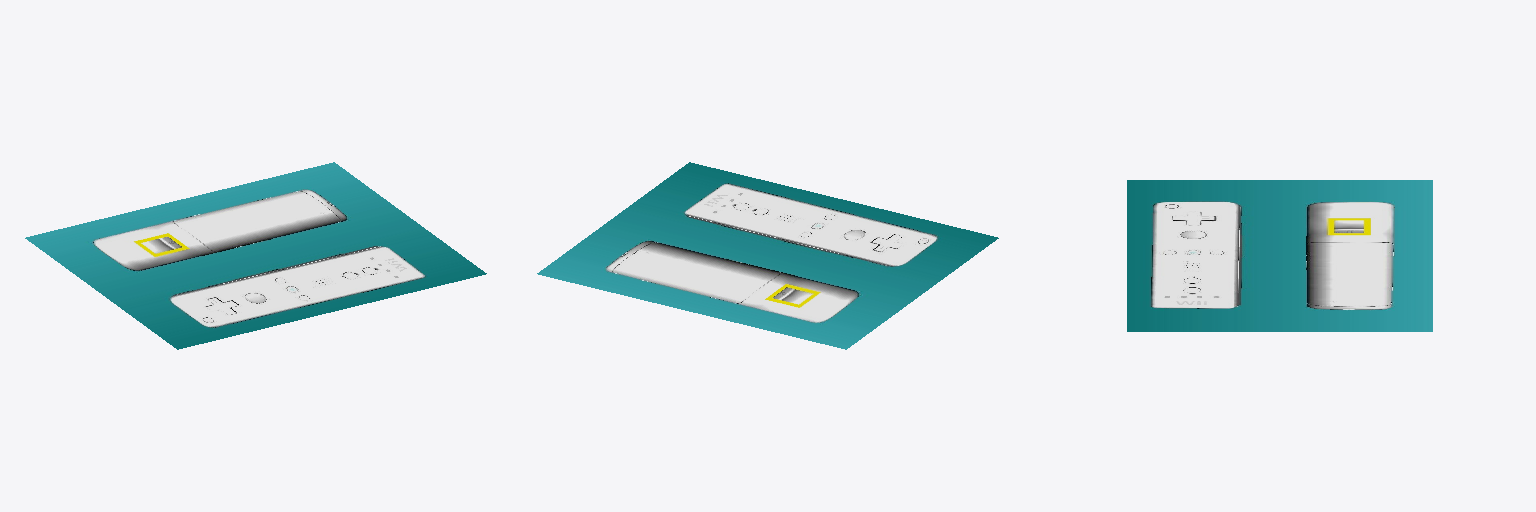
The picture shows the model from 3 angles: view 1: azimuth 30°, elevation 25°; view 2: azimuth 150°, elevation 25°; view 3: azimuth 270°, elevation 25°; orthographic projection.
Parts seen in each view (by area): view 1: Plane002; view 2: Plane002; view 3: Plane002.
Part boxes in pixels (x1,y1,x2,y2): Plane002: (25,162,486,349); Plane002: (537,162,998,349); Plane002: (1127,180,1432,331).
Size of the model in its own units: 94.59 by 0 by 80.88.
1 materials, 1 textured.